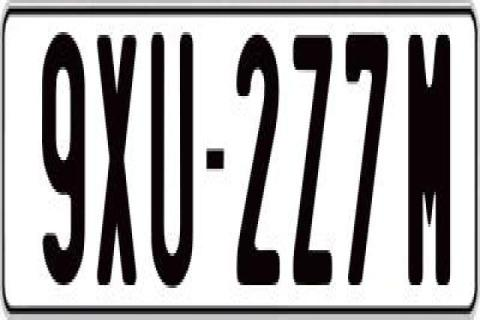0: (40, 32, 90, 300), (342, 29, 390, 297), (236, 32, 282, 300)
M: (406, 35, 448, 294)
U: (152, 27, 198, 297)
X: (94, 32, 138, 300)
Z: (290, 35, 336, 285)
